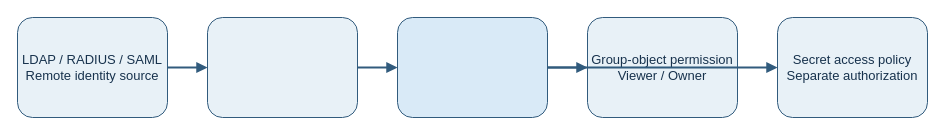
This 945x135 diagram has some shape labels left out. The shapes that lost their labels are listed below. From the top down, each one's centre as x and y in pixels, then its label:
At (x=282, y=67): "Remote group match LDAP filter or group name".
At (x=472, y=67): "FortiPAM group Remote membership".
